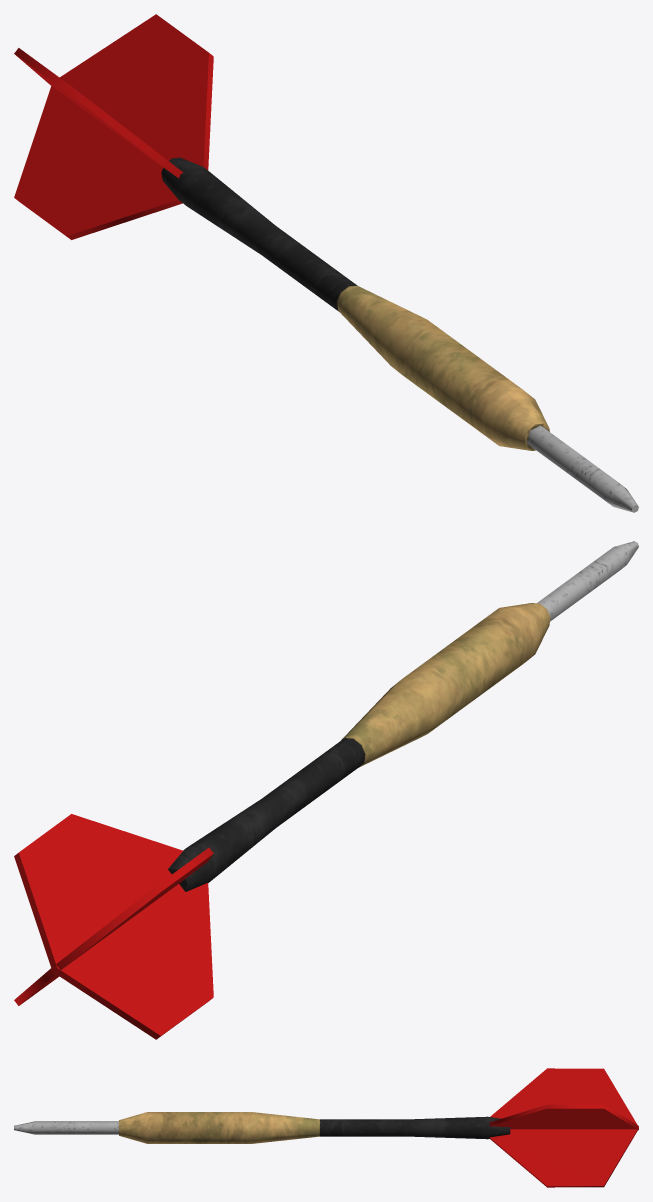
Rendered from Dart_A.fbx.
3 views of the same model, one above another, from view 1: azimuth 30°, elevation 25°; view 2: azimuth 150°, elevation 25°; view 3: azimuth 270°, elevation 25° (orthographic). The views are drawn at different scales.
Visible parts, largest first — view 1: Dart_A; view 2: Dart_A; view 3: Dart_A.
Part boxes in pixels (x1,y1,x2,y2): Dart_A: [14, 14, 638, 512]; Dart_A: [14, 541, 638, 1039]; Dart_A: [14, 1068, 638, 1187].
Size of the model in its own units: 2.97 by 2.97 by 20.31.
